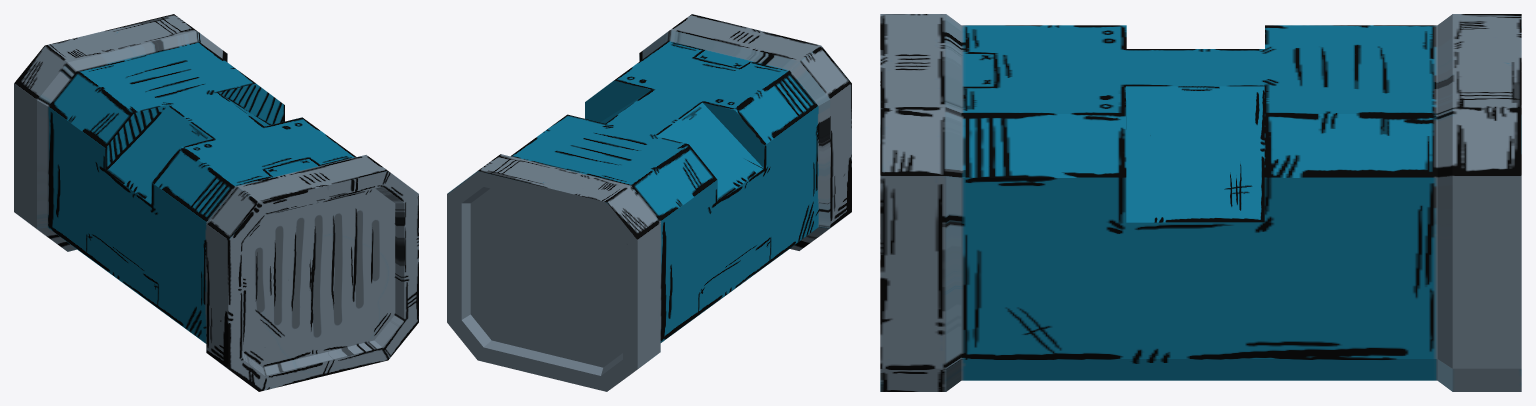
File: cargo.gltf
3 renders of one model, left to right at view 1: azimuth 30°, elevation 25°; view 2: azimuth 150°, elevation 25°; view 3: azimuth 270°, elevation 25°, orthographic. The views are drawn at different scales.
Parts seen in each view (by area): view 1: CONTAINER1.002; view 2: CONTAINER1.002; view 3: CONTAINER1.002.
Part boxes in pixels (x1,y1,x2,y2): CONTAINER1.002: (14, 14, 418, 391); CONTAINER1.002: (447, 14, 851, 391); CONTAINER1.002: (880, 14, 1521, 391).
Size of the model in its own units: 4.39 by 4.17 by 8.55.
Materials: 1 (1 with a texture image).
